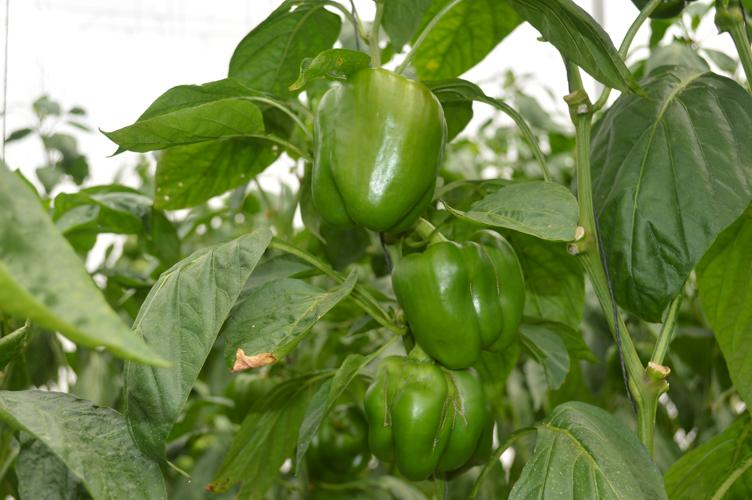BellPepper: (306, 64, 445, 230), (391, 234, 523, 361), (373, 366, 498, 478), (294, 401, 368, 481)
